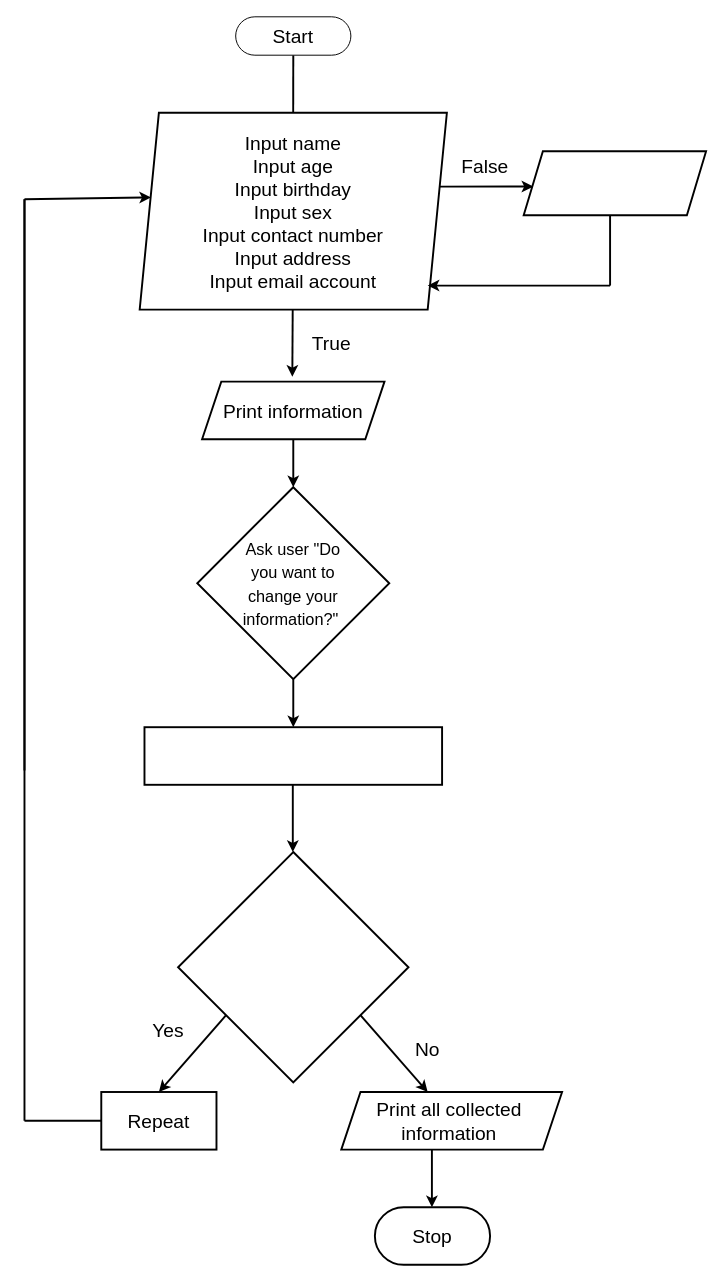
Image size: 723x1283. Some labels were removed from this diagram. The shapes that lost their labels are listed below. From the top down, each one's centre as x and y in pixels, then its label:
point 614,183: Print "Invalid Input. Try again."
point 293,755: Add information in personal_info_collector.txt file
point 293,967: Ask user "Do you want to add another information?"
